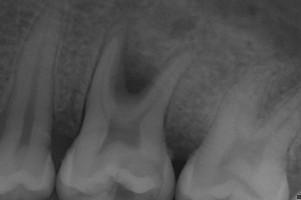Endo-Periodontal Lesion: (120, 43, 161, 94)
